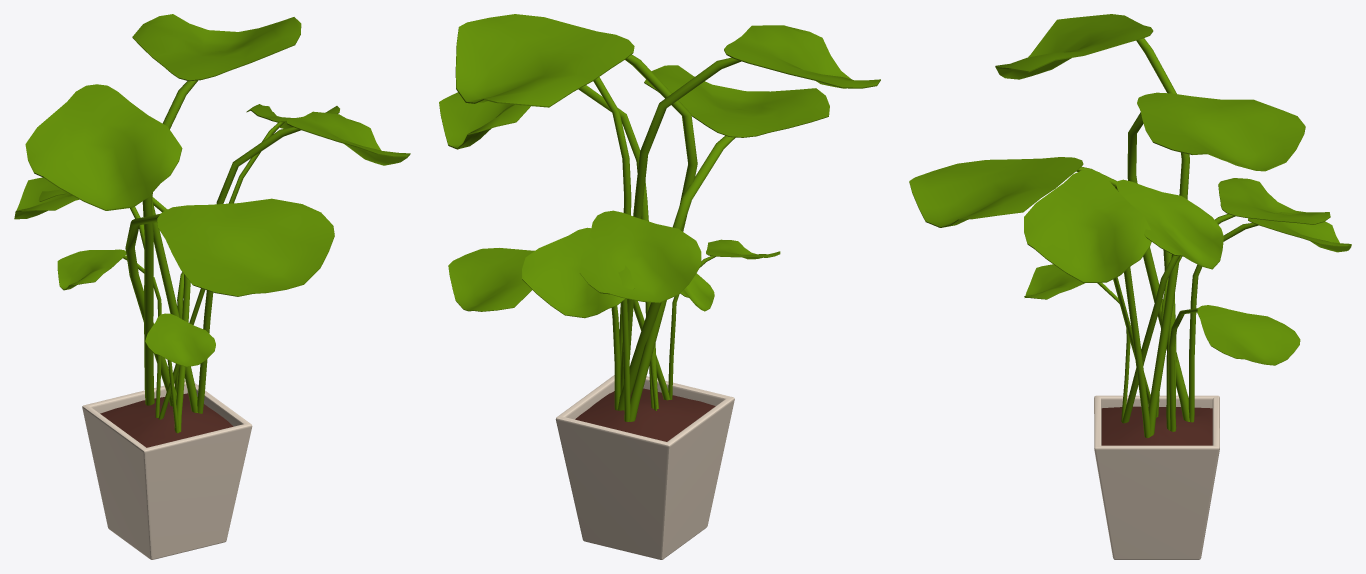
File: PotPlant03.fbx
The picture shows the model from 3 angles, left to right: view 1: azimuth 30°, elevation 25°; view 2: azimuth 150°, elevation 25°; view 3: azimuth 270°, elevation 25°; orthographic projection. The views are drawn at different scales.
Parts seen in each view (by area): view 1: polySurface153, polySurface135; view 2: polySurface153, polySurface135; view 3: polySurface153, polySurface135.
Part boxes in pixels (bbox=[...]): polySurface153: bbox=[14, 14, 410, 433]; polySurface135: bbox=[82, 380, 252, 559]; polySurface153: bbox=[439, 14, 880, 421]; polySurface135: bbox=[555, 375, 734, 559]; polySurface153: bbox=[909, 14, 1351, 437]; polySurface135: bbox=[1094, 395, 1219, 559].
Bounding box in the file's own units: 18.57 × 22.78 × 19.37.
